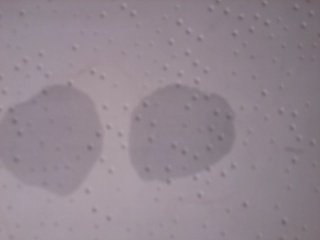Water_detected: (133, 101, 209, 171), (19, 103, 83, 183)
